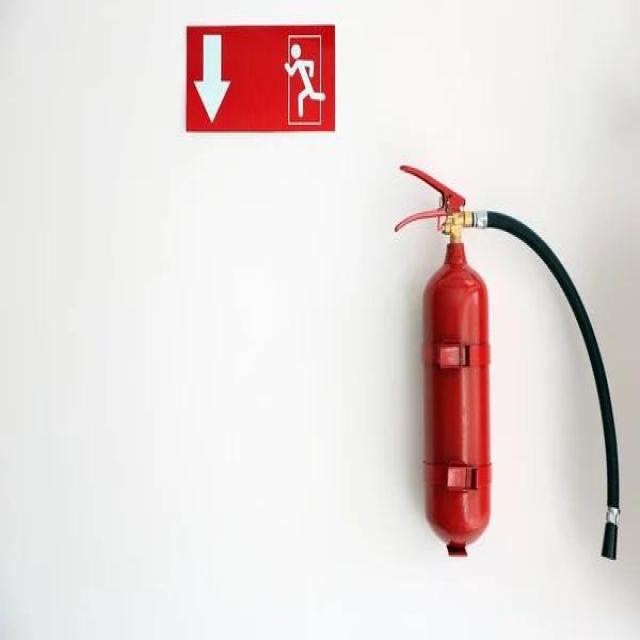fire_extinguisher: (392, 160, 620, 568)
